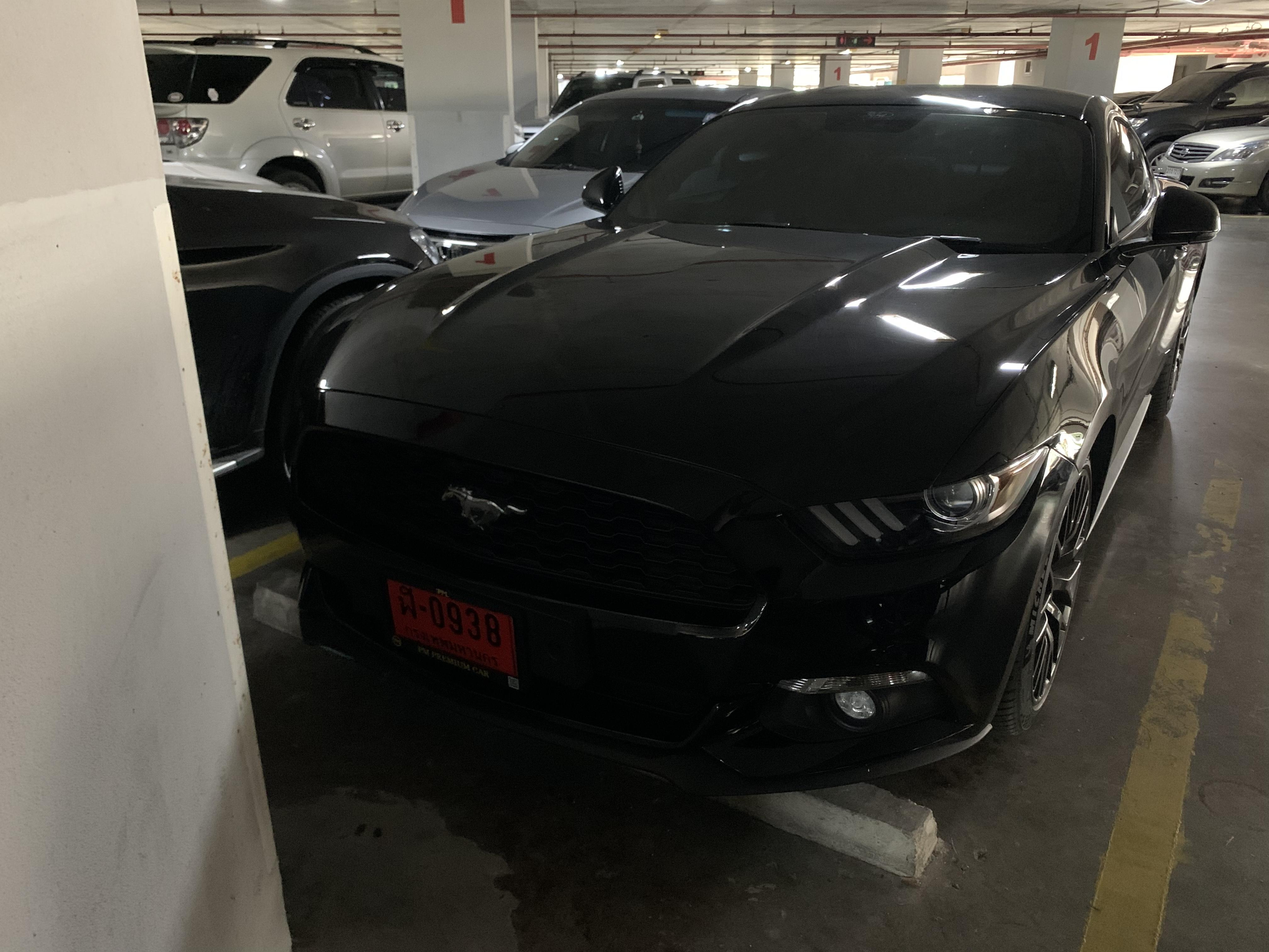license-plate: (375, 567, 533, 693)
